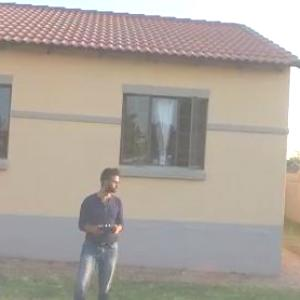follow: (71, 168, 134, 299)
